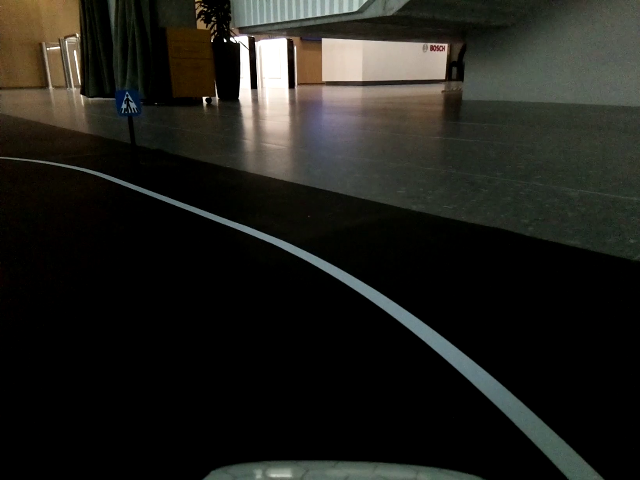pedestrians: (117, 90, 141, 114)
